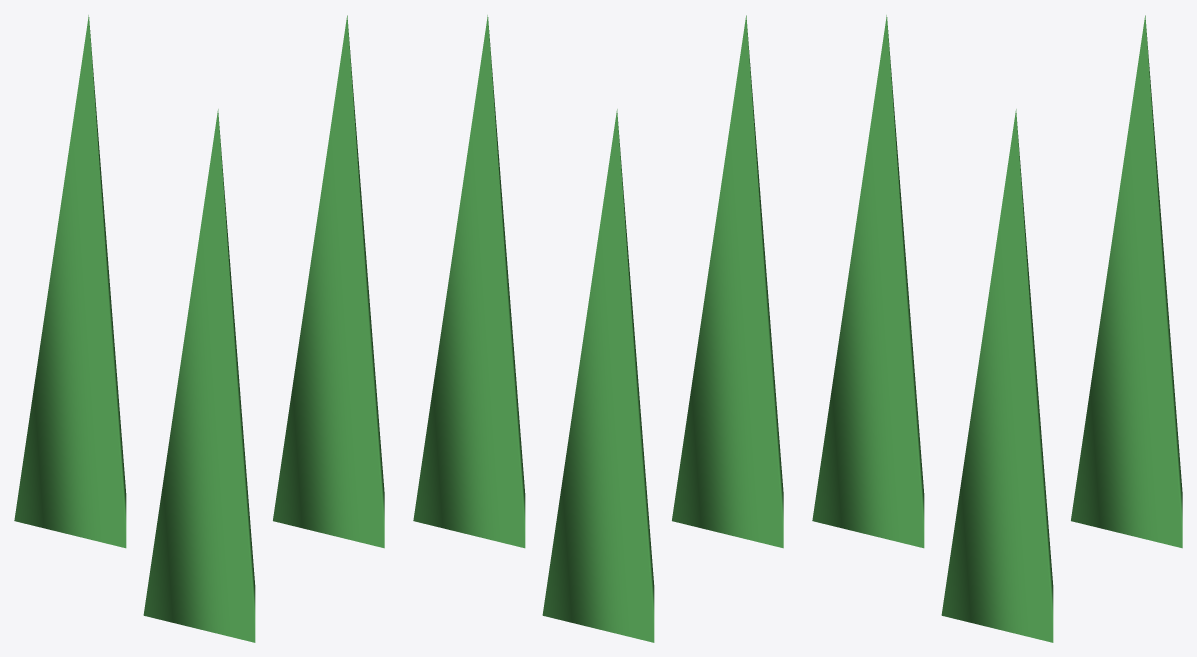
Rendered from grass.glb.
3 views of the same model, side by side, from view 1: azimuth 30°, elevation 25°; view 2: azimuth 150°, elevation 25°; view 3: azimuth 270°, elevation 25° (orthographic).
Parts seen in each view (by area): view 1: node_2, node_1, node_0; view 2: node_0, node_2, node_1; view 3: node_1, node_0, node_2.
Boxes of the visible parts, x1,y1,x2,y2 form: node_2: (14, 15, 126, 548); node_1: (143, 109, 255, 642); node_0: (273, 15, 384, 548); node_0: (413, 15, 525, 548); node_2: (542, 109, 654, 642); node_1: (672, 15, 783, 548); node_1: (812, 15, 924, 548); node_0: (941, 109, 1053, 642); node_2: (1071, 15, 1182, 548).
Size of the model in its own units: 0.0946 by 0.15 by 0.0993.
